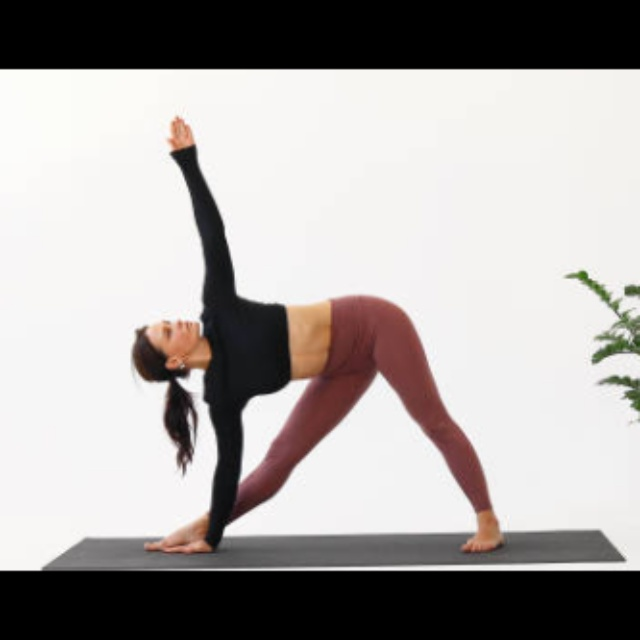Triangle_Pose: (112, 95, 512, 568)
